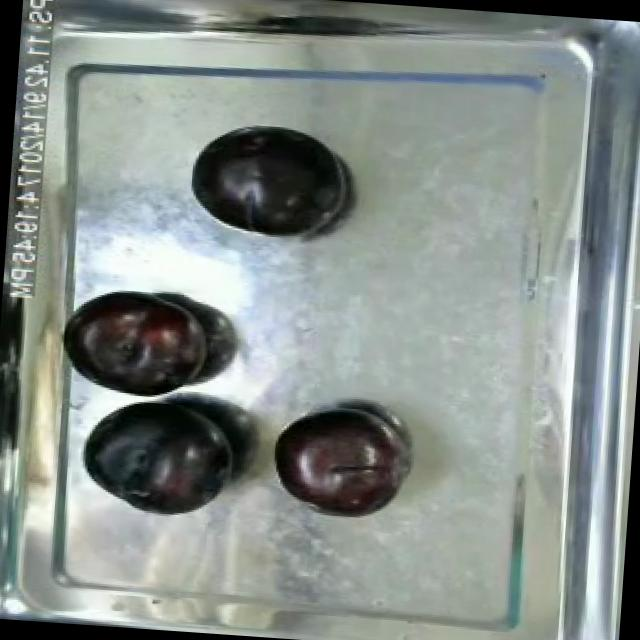Fruit: (180, 116, 356, 250), (75, 390, 237, 524), (264, 395, 418, 527), (64, 282, 220, 400)
